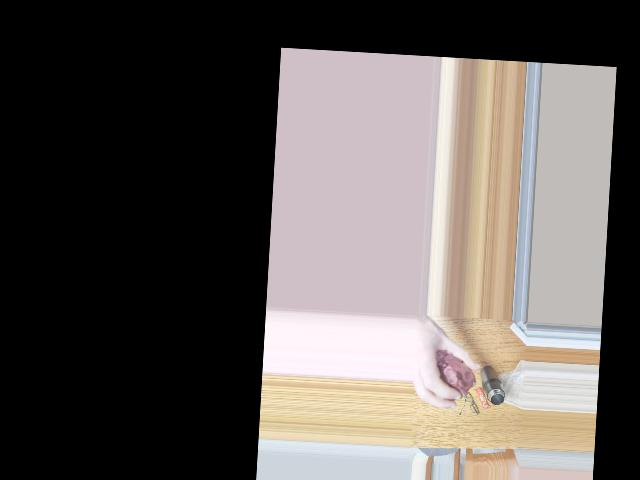onion: (431, 353, 473, 401)
